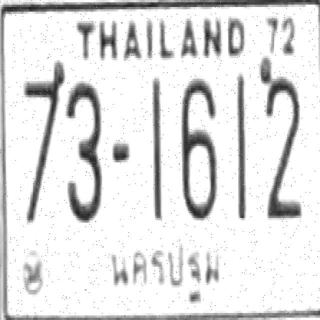N01: (234, 72, 246, 220), (150, 76, 162, 220)
N02: (265, 72, 301, 218)
N03: (65, 79, 102, 220)
N06: (180, 76, 217, 218)
N07: (22, 61, 64, 222)
P28: (102, 233, 225, 305)
